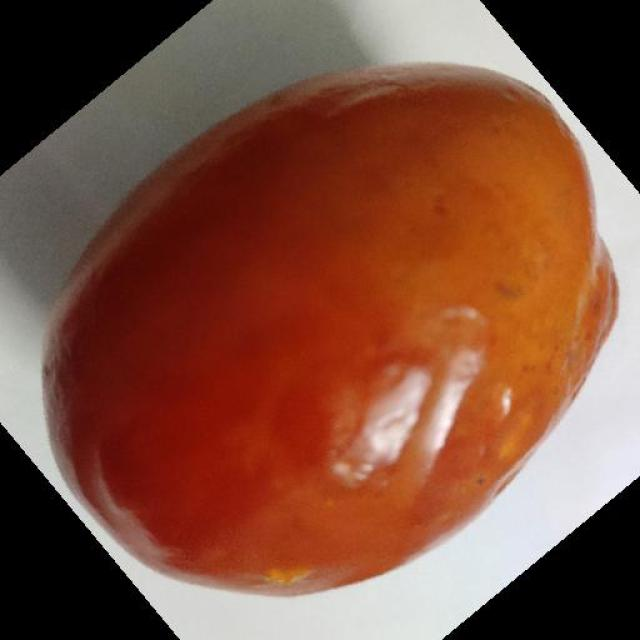Stale_tomato: (29, 80, 632, 581)
